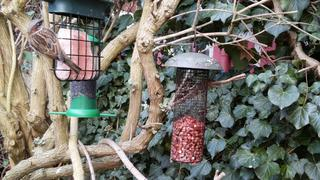sparrow: (27, 19, 83, 75)
